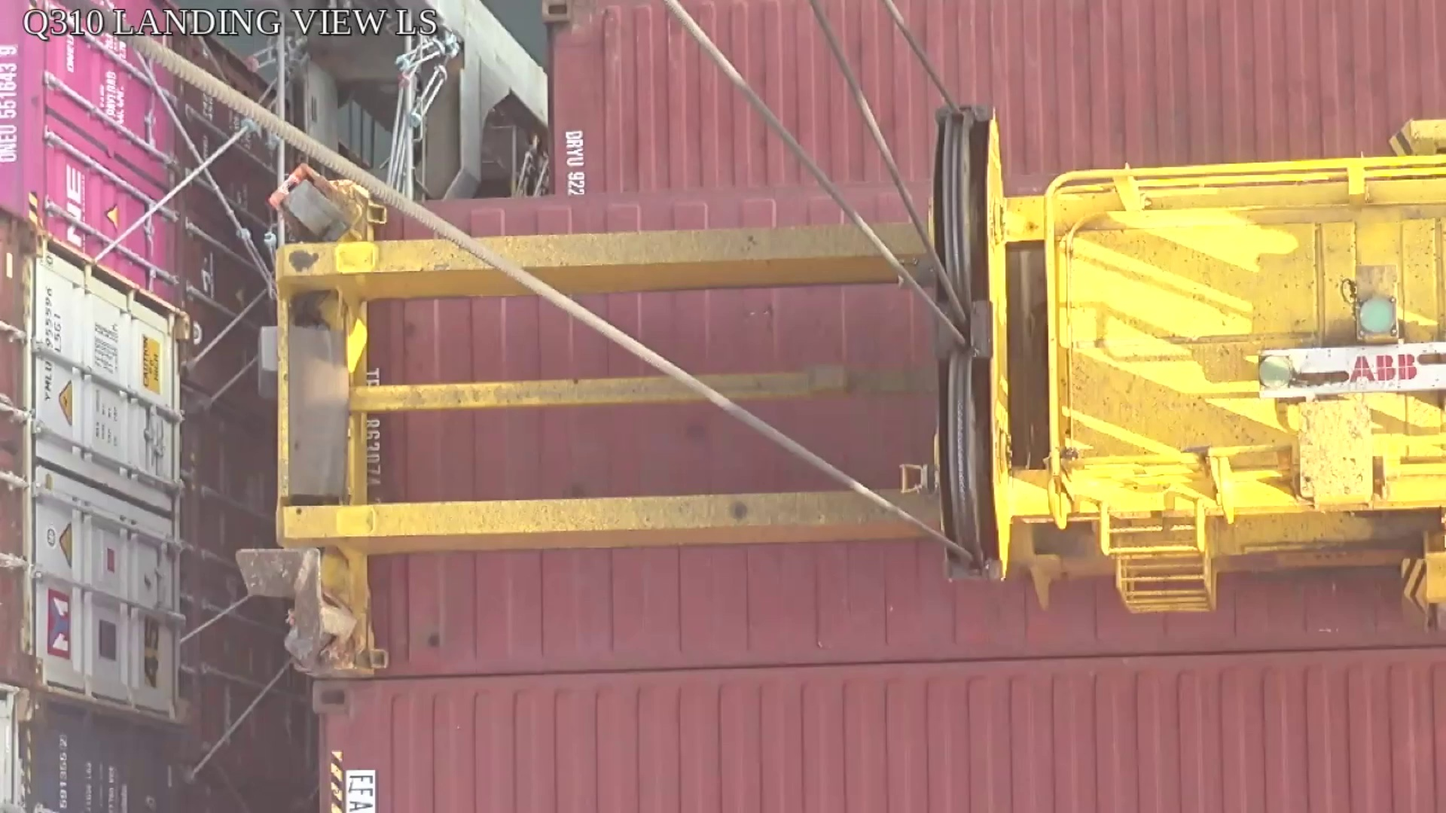aa: (926, 107, 1014, 580)
